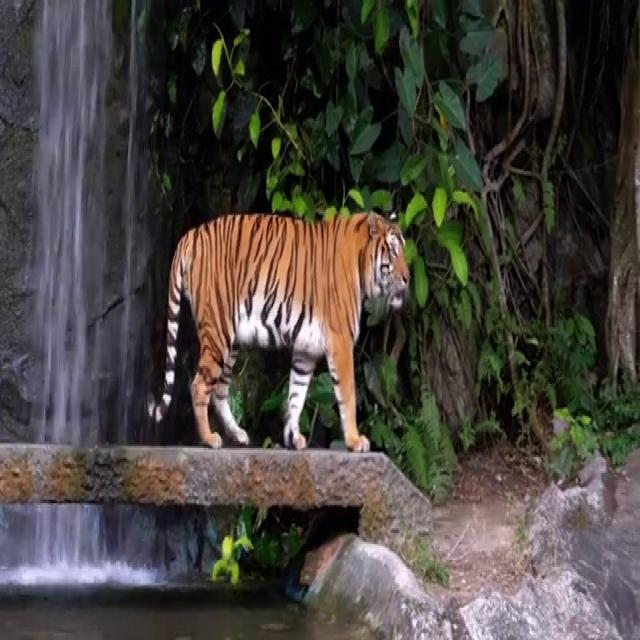tiger: (148, 210, 411, 454)
